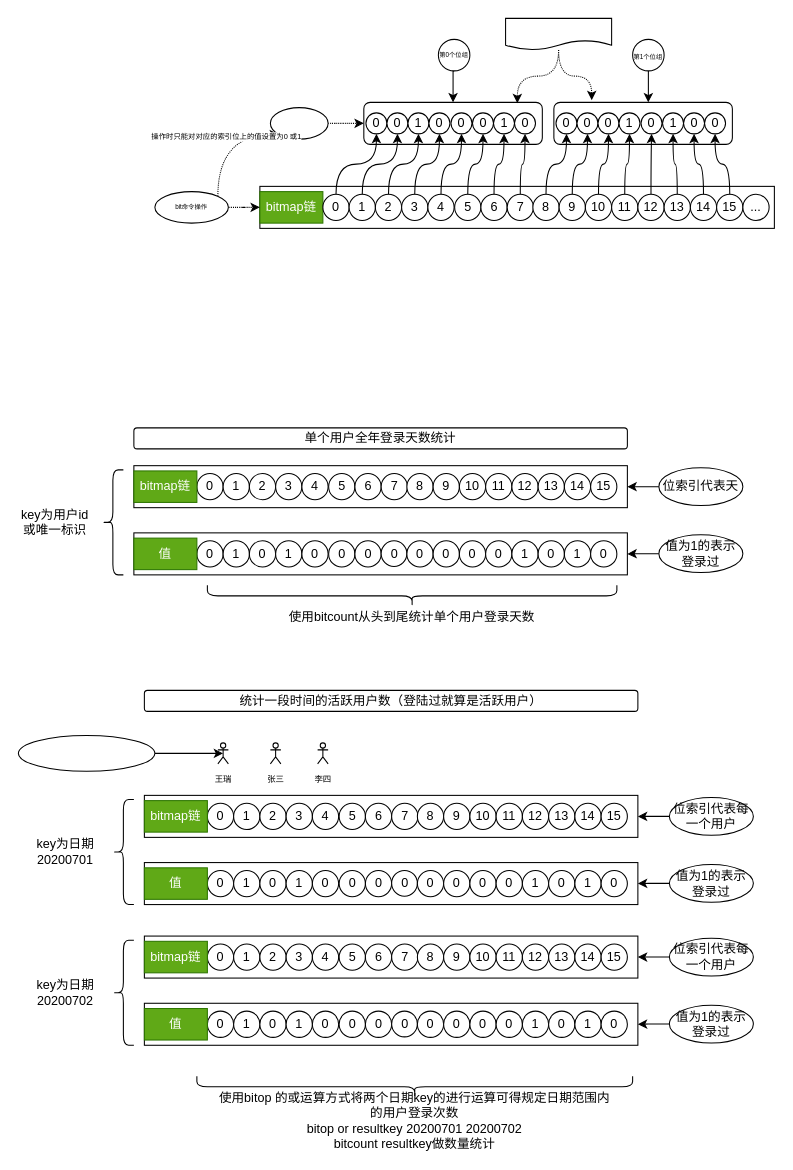
Some shapes in this 793 by 1170 pixel diagram are drawn without their labels. The shapes that lost their labels are listed below. From the top down, each one's box as (x1, y1, x2, y2) in pixels, then its label:
(505, 17, 612, 50): 数据结构中一个字节是8位
(269, 107, 328, 139): redis底层数据存储
(17, 734, 155, 771): 同一个位编号 代表同一个用户
